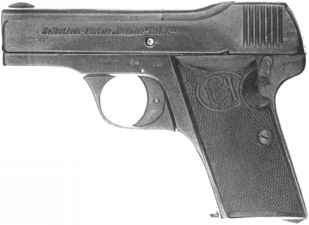gun: (1, 2, 309, 223)
